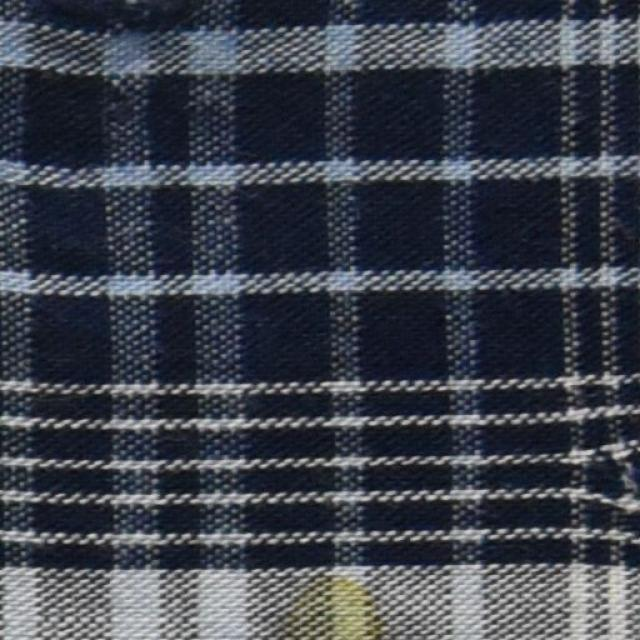Snag: (68, 0, 212, 75), (559, 426, 639, 553)
Stain: (273, 554, 399, 639)
